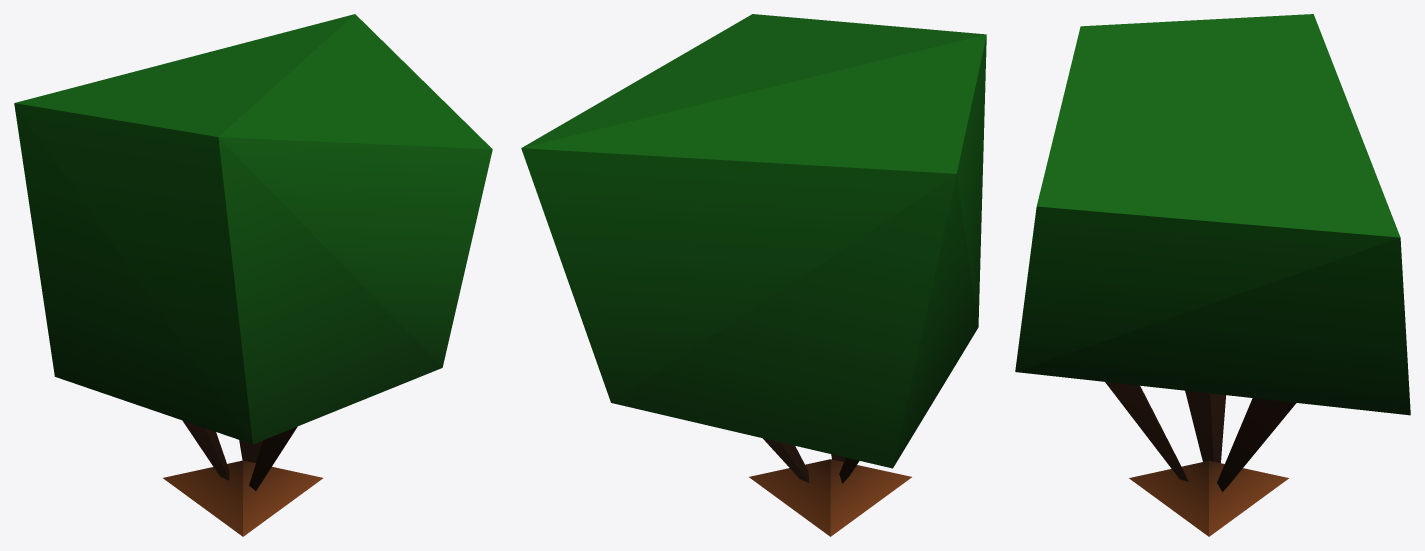
The model's file is c_hedge_square_ac.fbx.
3 views of the same model, side by side, from view 1: azimuth 30°, elevation 25°; view 2: azimuth 150°, elevation 25°; view 3: azimuth 270°, elevation 25° (orthographic). The views are drawn at different scales.
Visible parts, largest first — view 1: c_hedge_square_ac; view 2: c_hedge_square_ac; view 3: c_hedge_square_ac.
Part boxes in pixels (x1,y1,x2,y2): c_hedge_square_ac: (14, 14, 492, 536); c_hedge_square_ac: (521, 14, 986, 536); c_hedge_square_ac: (1015, 14, 1410, 536).
Bounding box in the file's own units: 1.43 × 1.58 × 1.28.
